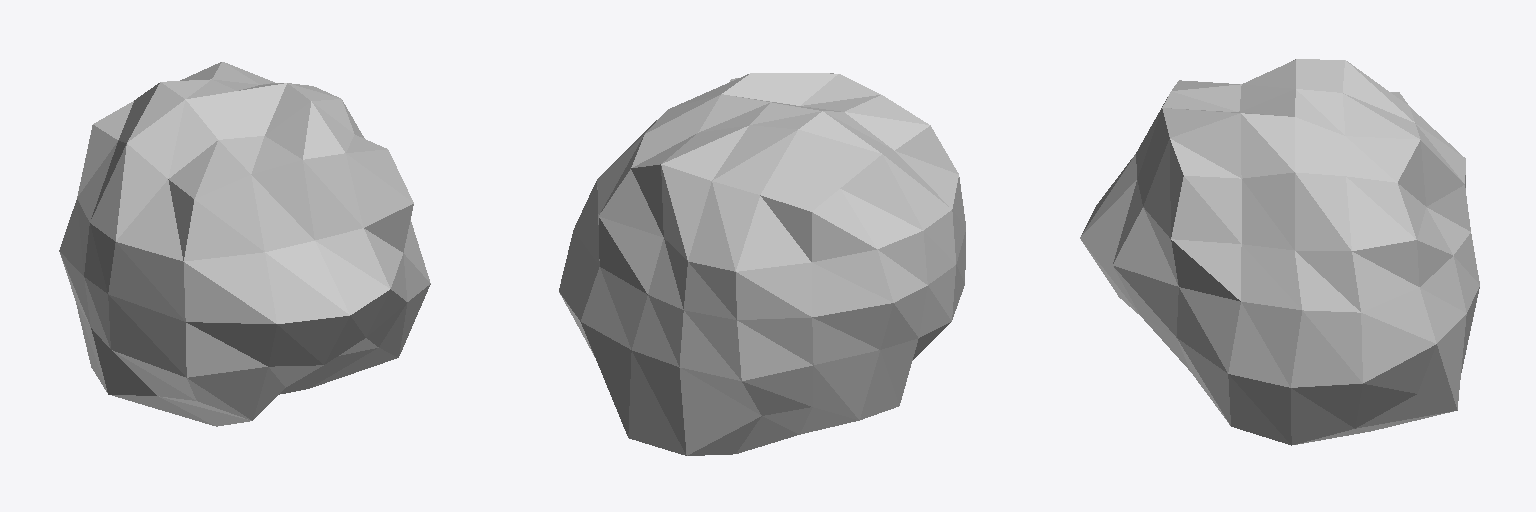
File: RoundRock.obj
3 renders of one model, left to right at view 1: azimuth 30°, elevation 25°; view 2: azimuth 150°, elevation 25°; view 3: azimuth 270°, elevation 25°, orthographic.
Visible parts, largest first — view 1: Cube; view 2: Cube; view 3: Cube.
Part boxes in pixels (x1,y1,x2,y2): Cube: (59, 62, 430, 426); Cube: (559, 73, 965, 455); Cube: (1080, 59, 1479, 445).
Size of the model in its own units: 3.75 by 3.54 by 3.87.